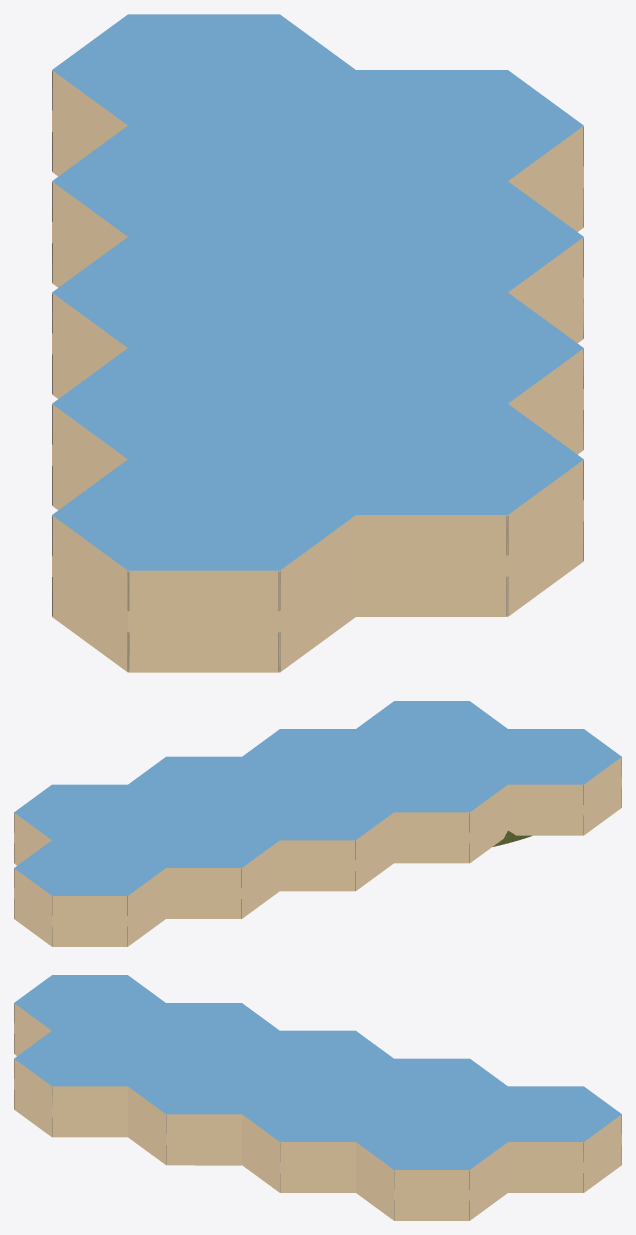
The model's file is granja-pradera-pbr-v20.glb.
3 views of the same model, one above another, from view 1: azimuth 30°, elevation 25°; view 2: azimuth 150°, elevation 25°; view 3: azimuth 270°, elevation 25° (orthographic). The views are drawn at different scales.
Parts seen in each view (by area): view 1: GRANJA_Techo, GRANJA_Paredes, GRANJA_Estructura_Paredes; view 2: GRANJA_Techo, GRANJA_Paredes, GRANJA_Estructura_Paredes; view 3: GRANJA_Techo, GRANJA_Paredes, GRANJA_Estructura_Paredes.
Part boxes in pixels (x1,y1,x2,y2): GRANJA_Techo: (52,14,583,570); GRANJA_Paredes: (52,70,583,672); GRANJA_Estructura_Paredes: (52,71,583,671); GRANJA_Techo: (14,701,621,895); GRANJA_Paredes: (14,757,621,946); GRANJA_Estructura_Paredes: (14,757,621,945); GRANJA_Techo: (14,975,621,1169); GRANJA_Paredes: (14,1003,621,1220); GRANJA_Estructura_Paredes: (14,1004,621,1219).
Bounding box in the file's own units: 303 × 87 × 400.
12 materials, 6 textured.
